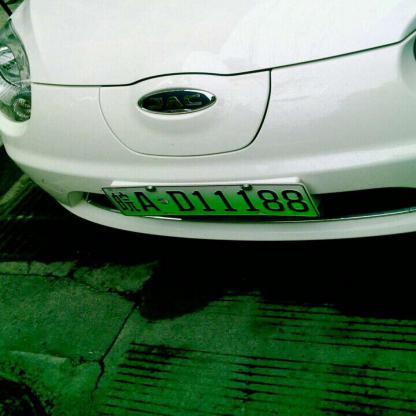lp: (100, 185, 318, 217)
